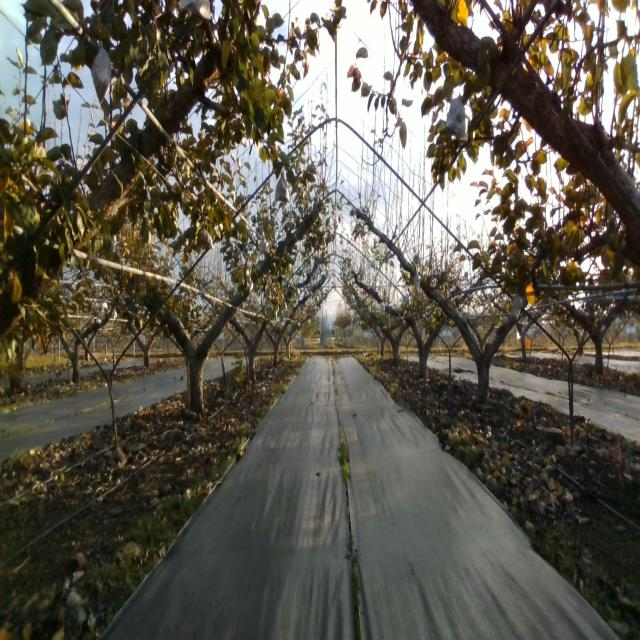pearbags: (91, 40, 112, 106), (443, 94, 468, 141), (274, 169, 291, 204), (197, 225, 214, 250), (510, 293, 522, 324)
